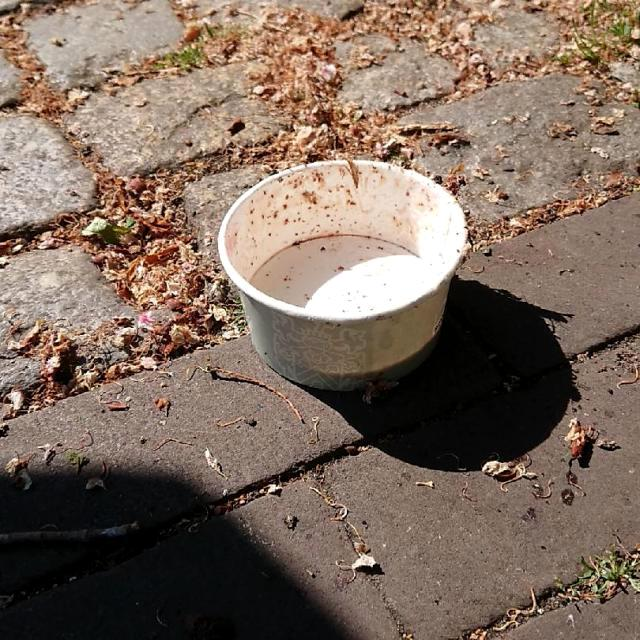Paper: (214, 157, 472, 396)
